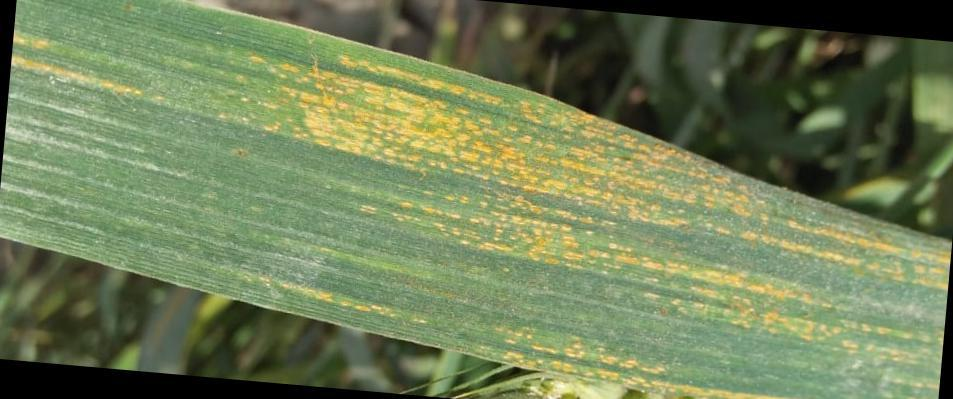Wheat: (269, 51, 857, 349)
